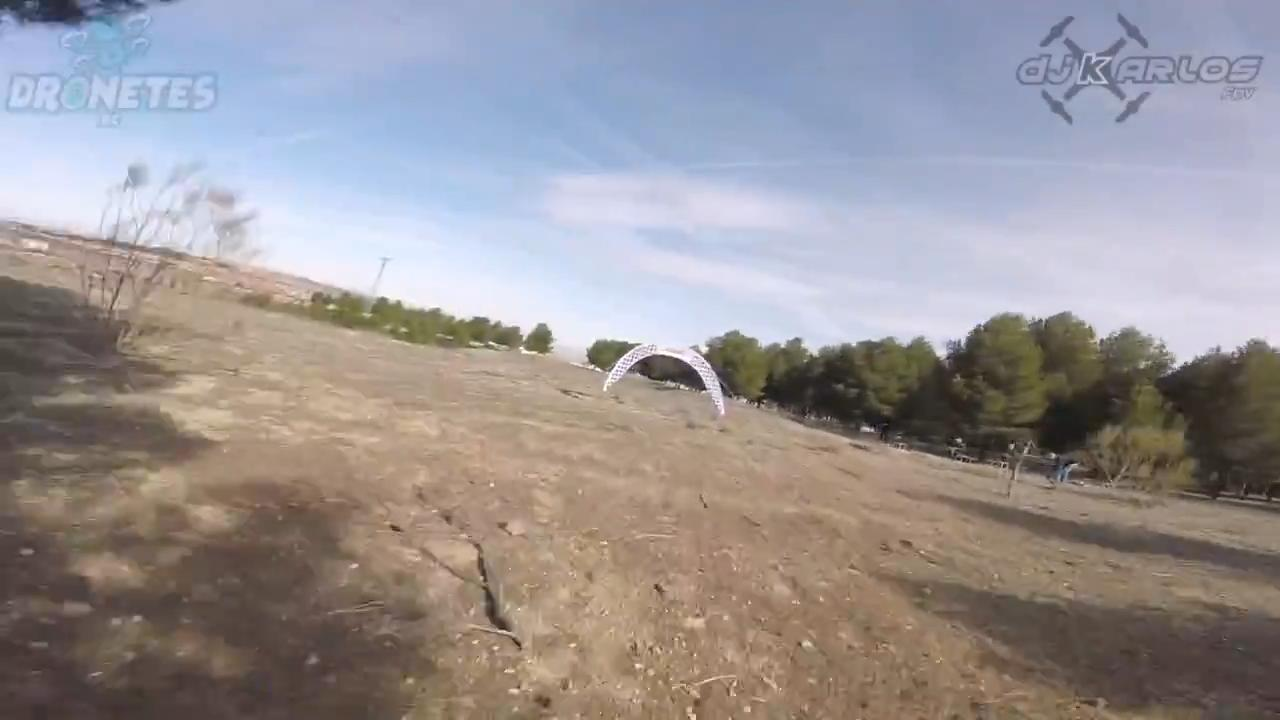gate: (602, 337, 724, 420)
